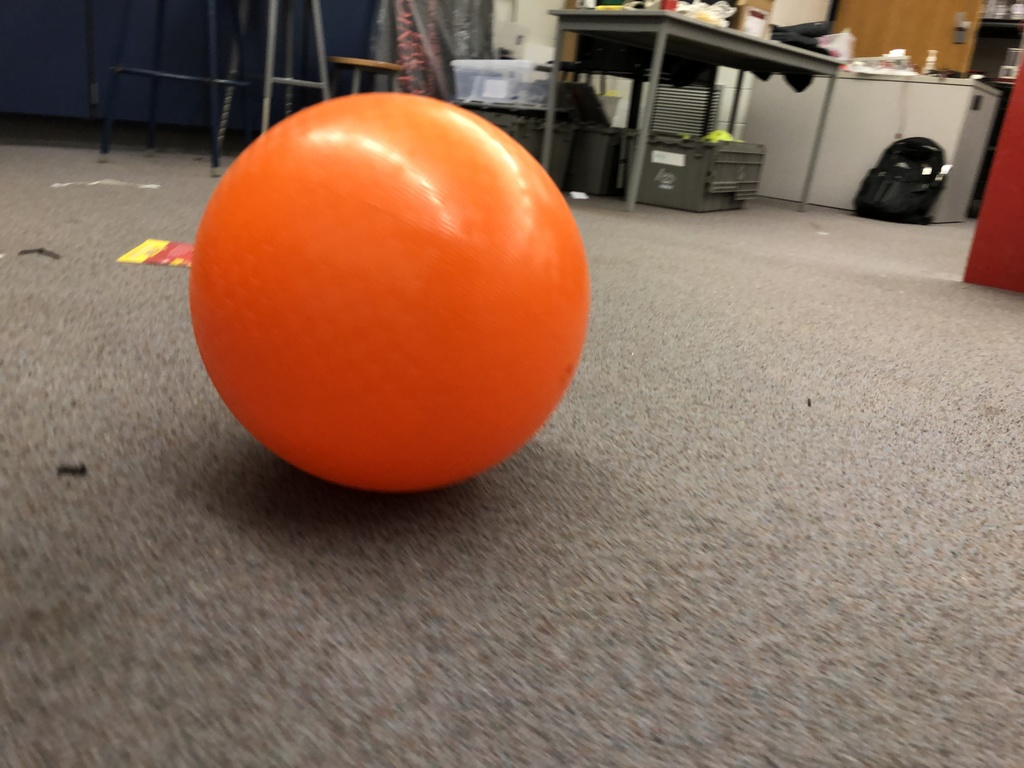cargo: (180, 74, 602, 513)
